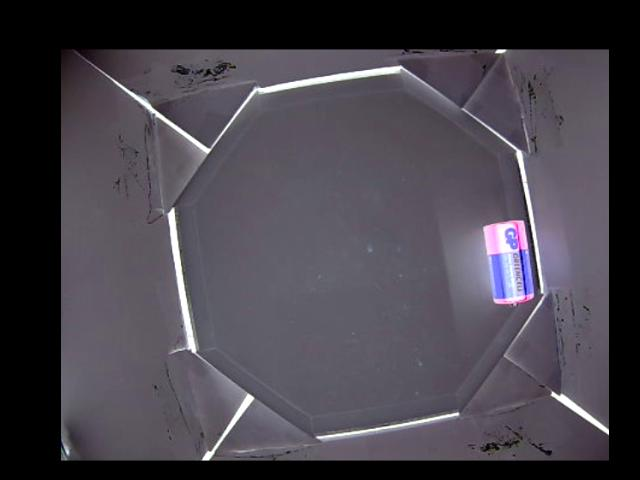Battery: (484, 219, 536, 308)
